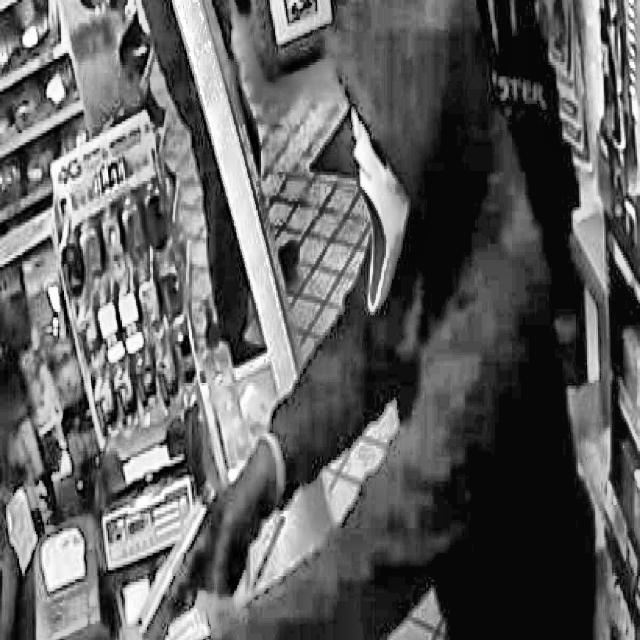robbery: (128, 0, 598, 640)
